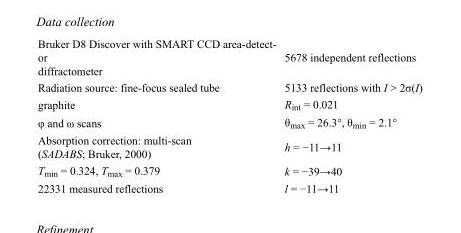table: (37, 36, 421, 194)
table column: (37, 36, 279, 194), (279, 36, 421, 194)
table row: (37, 36, 421, 78), (37, 131, 421, 161), (37, 95, 421, 113), (37, 113, 421, 131), (37, 161, 421, 179), (37, 78, 421, 95), (37, 179, 421, 194)
